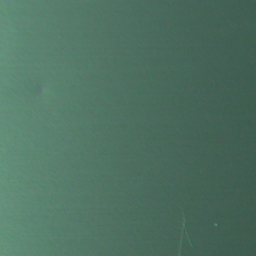dent: (29, 78, 53, 101)
sct: (176, 212, 201, 256)
